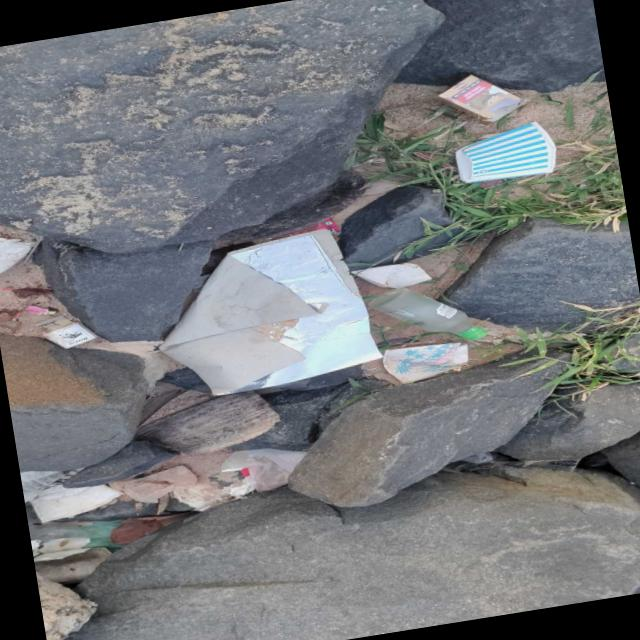chai_thuy_tinh: (371, 288, 490, 340)
giay: (161, 229, 384, 395), (20, 471, 121, 522), (353, 262, 434, 288), (36, 315, 97, 348)
ly_hop_giay: (457, 121, 558, 181), (384, 342, 470, 383)
nhua: (223, 449, 308, 472)
